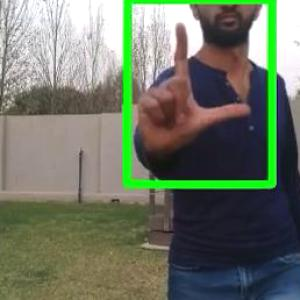land_hand: (133, 17, 254, 156)
